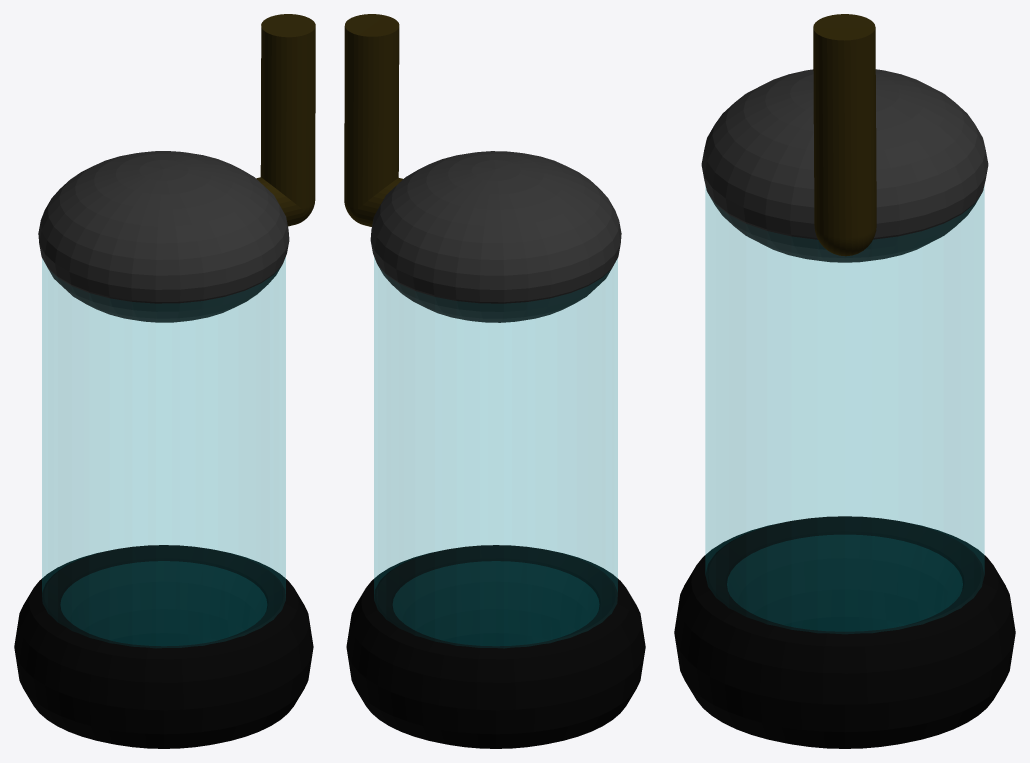
Rendered from Workbench.fbx.
The picture shows the model from 3 angles, left to right: view 1: azimuth 30°, elevation 25°; view 2: azimuth 150°, elevation 25°; view 3: azimuth 270°, elevation 25°; orthographic projection. The views are drawn at different scales.
Visible parts, largest first — view 1: Cylinder.001, Torus, Sphere, Cylinder.002; view 2: Cylinder.001, Torus, Sphere, Cylinder.002; view 3: Cylinder.001, Torus, Sphere, Cylinder.002.
Part boxes in pixels (x1,y1,x2,y2): Cylinder.001: (42, 257, 285, 647); Torus: (14, 545, 313, 748); Sphere: (38, 151, 289, 322); Cylinder.002: (256, 14, 315, 226); Cylinder.001: (374, 257, 617, 647); Torus: (346, 545, 645, 748); Sphere: (370, 151, 621, 322); Cylinder.002: (344, 14, 402, 226); Cylinder.001: (705, 187, 984, 633); Torus: (674, 516, 1015, 748); Sphere: (701, 69, 988, 262); Cylinder.002: (813, 14, 876, 256).
Size of the model in its own units: 428 by 947 by 400.
